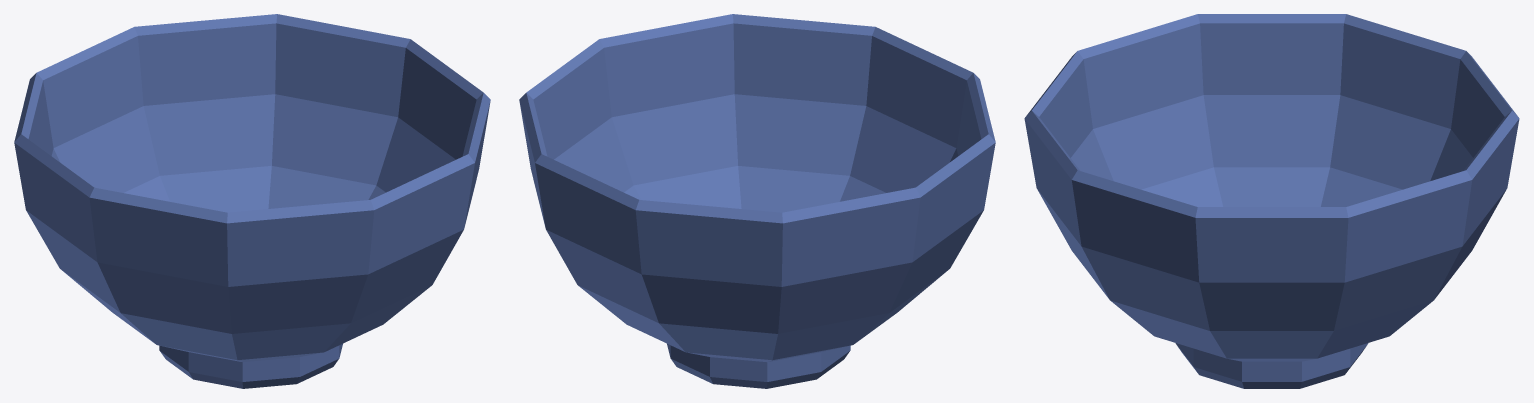
Rendered from bluebowl.glb.
The picture shows the model from 3 angles, left to right: view 1: azimuth 30°, elevation 25°; view 2: azimuth 150°, elevation 25°; view 3: azimuth 270°, elevation 25°; orthographic projection.
Parts seen in each view (by area): view 1: Sphere; view 2: Sphere; view 3: Sphere.
Part boxes in pixels (x1,y1,x2,y2): Sphere: (14,14,490,388); Sphere: (519,14,995,388); Sphere: (1024,14,1519,388).
Bounding box in the file's own units: 1.9 × 1.08 × 2.
